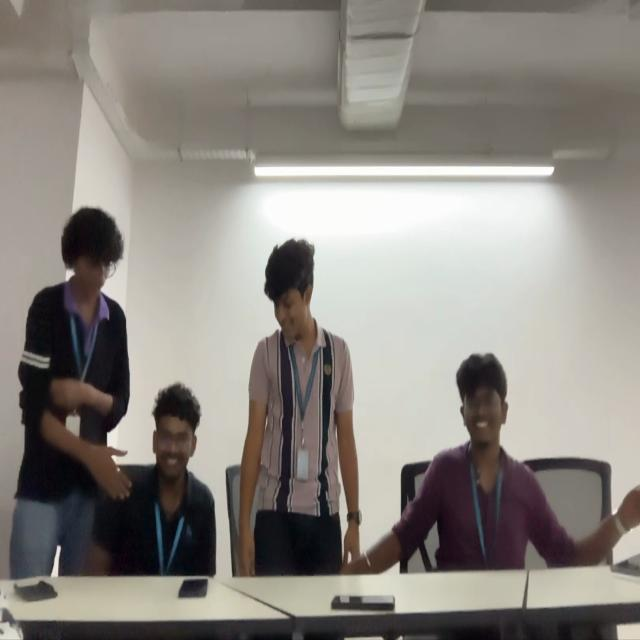Isolated: (241, 248, 363, 560), (424, 352, 536, 558)
socializing: (17, 208, 215, 572)
